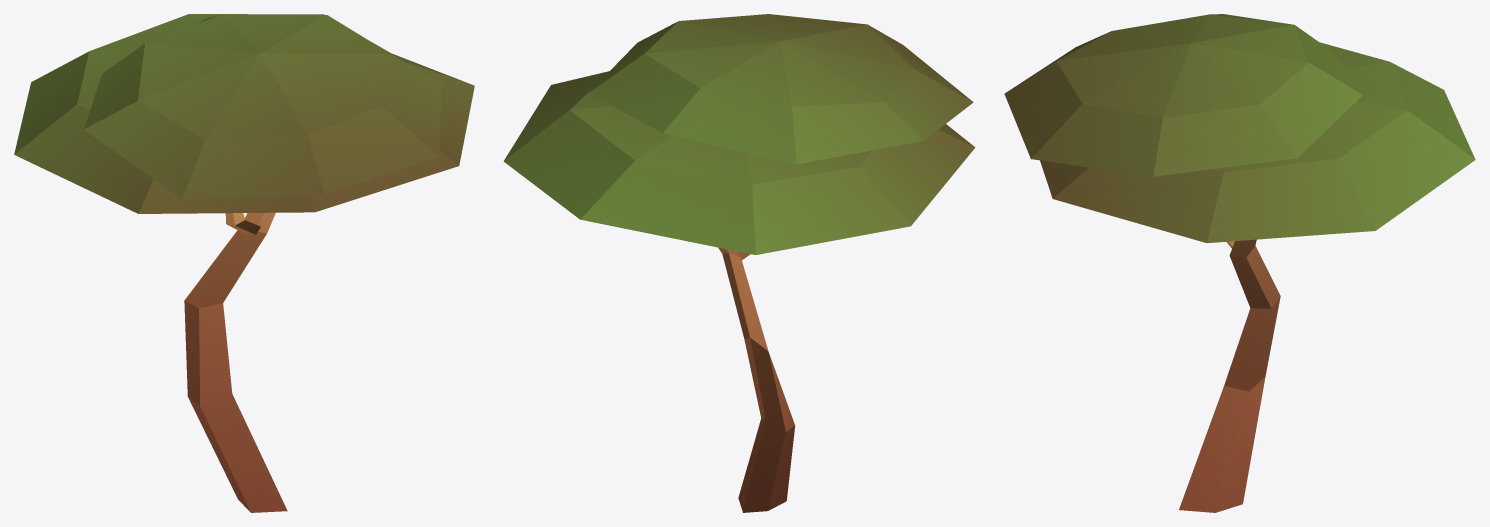
The model's file is Dry_treeb_ENO_LOD.FBX.
The picture shows the model from 3 angles, left to right: view 1: azimuth 30°, elevation 25°; view 2: azimuth 150°, elevation 25°; view 3: azimuth 270°, elevation 25°; orthographic projection.
Visible parts, largest first — view 1: Dry_treeB_LOD00; view 2: Dry_treeB_LOD00; view 3: Dry_treeB_LOD00.
Boxes of the visible parts, box(x1,y1,x2,y2) form: Dry_treeB_LOD00: box(14, 14, 474, 512); Dry_treeB_LOD00: box(503, 14, 975, 512); Dry_treeB_LOD00: box(1004, 14, 1475, 512).
Size of what is drawn, in the model's own units: 8.43 by 8.99 by 8.4.
